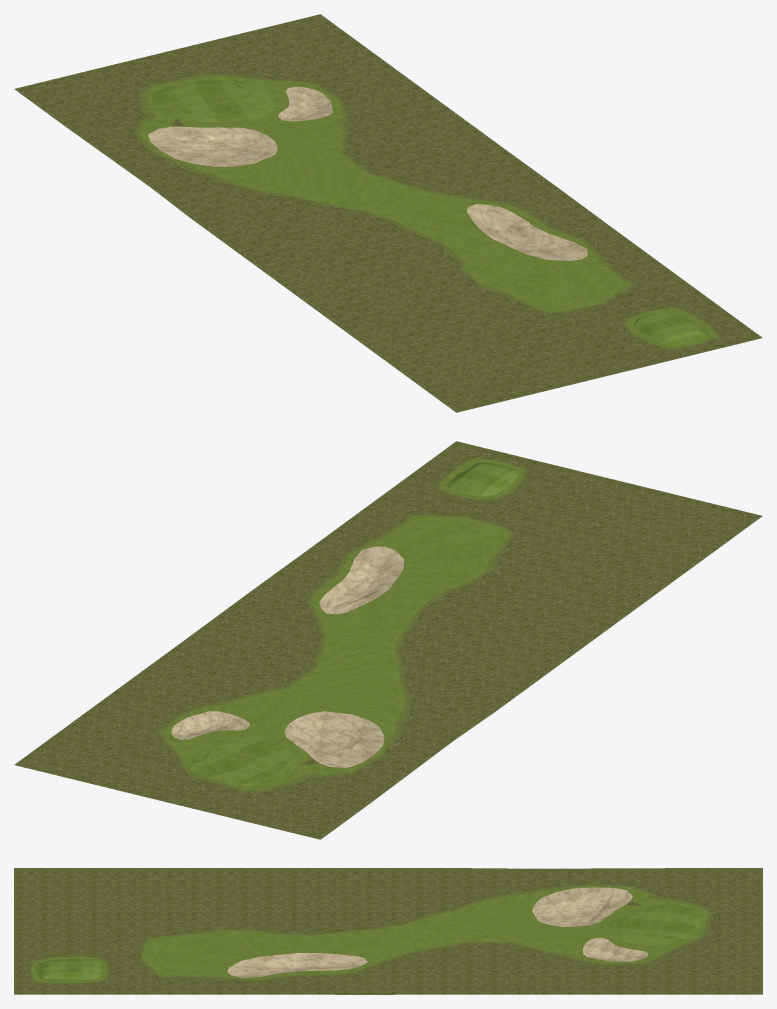
The model's file is vegasgolfcrs04.obj.
3 views of the same model, one above another, from view 1: azimuth 30°, elevation 25°; view 2: azimuth 150°, elevation 25°; view 3: azimuth 270°, elevation 25° (orthographic). The views are drawn at different scales.
Parts seen in each view (by area): view 1: vegasgolfcrs04; view 2: vegasgolfcrs04; view 3: vegasgolfcrs04.
Part boxes in pixels (x1,y1,x2,y2): vegasgolfcrs04: (14,14,762,412); vegasgolfcrs04: (14,441,762,839); vegasgolfcrs04: (14,868,762,994).
Size of the model in its own units: 40.04 by 1.27 by 100.
6 materials, 6 textured.
